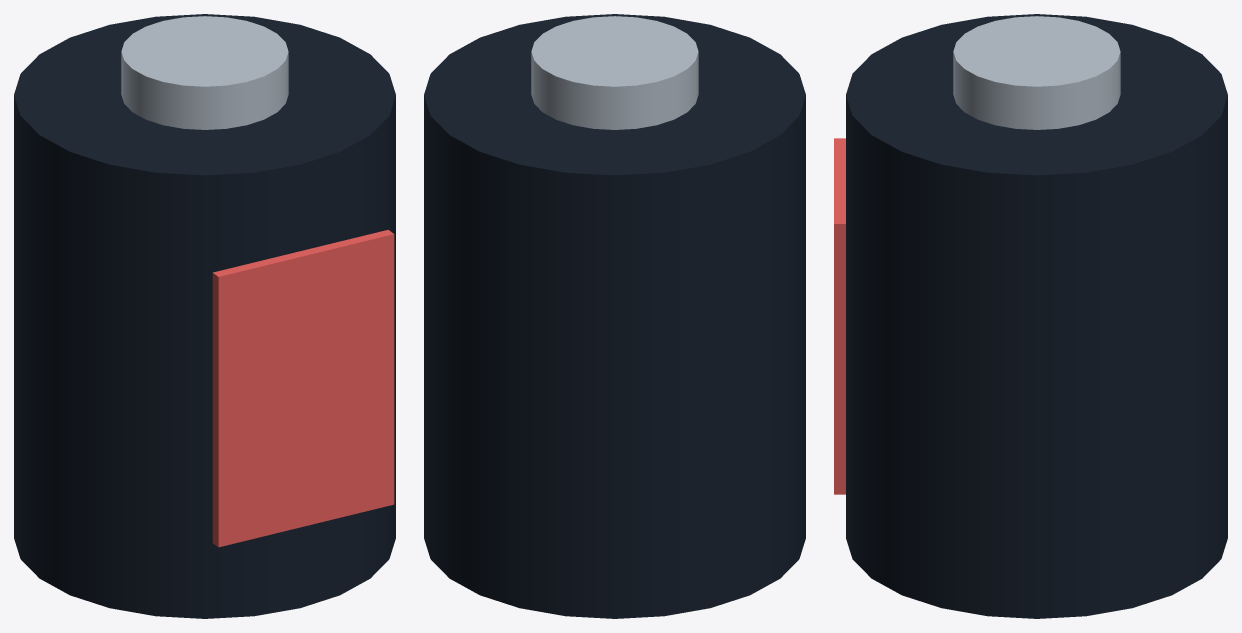
File: battery.glb
3 views of the same model, side by side, from view 1: azimuth 30°, elevation 25°; view 2: azimuth 150°, elevation 25°; view 3: azimuth 270°, elevation 25° (orthographic).
Size of the model in its own units: 0.64 by 0.9 by 0.66.
